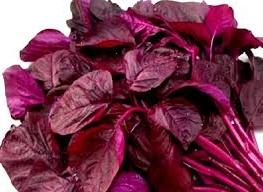amaranth: (0, 0, 262, 191), (104, 169, 152, 191)
